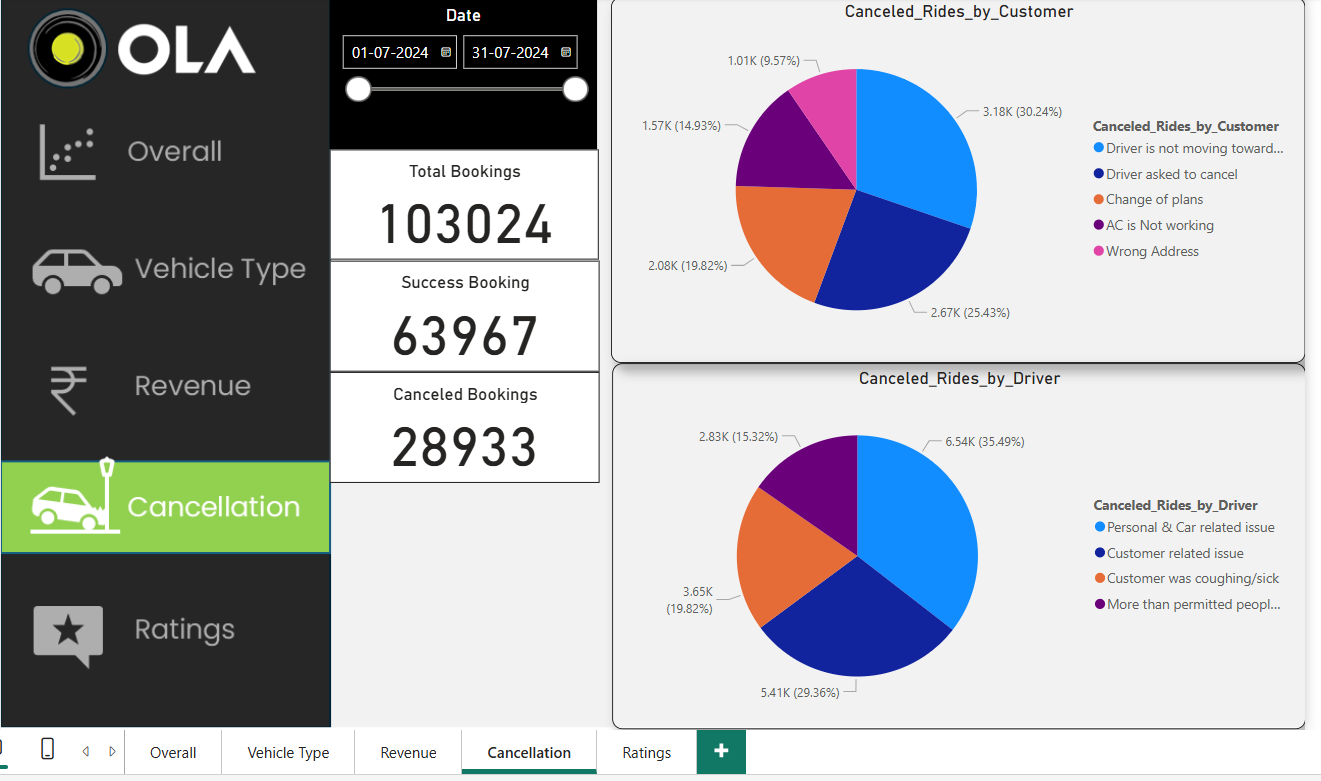

This screenshot's page, from the dashboard's own definition file:
{"tool":"powerbi","page":{"name":"Cancellation","canvas":[1280,720],"ordinal":3},"visuals":[{"type":"actionButton","box":[0,222.3,322.5,91.9],"z":0},{"type":"actionButton","box":[0,108.4,322.5,91.9],"z":1000},{"type":"actionButton","box":[0,337.6,322.5,91.9],"z":2000},{"type":"actionButton","box":[0,455.6,322.5,91.9],"z":3000},{"type":"actionButton","box":[0,575,322.5,91.9],"z":4000},{"type":"pieChart","title":"Canceled_Rides_by_Customer","fields":{"Y":["CountNonNull(July (2).Canceled_Rides_by_Customer)"],"Category":["July (2).Canceled_Rides_by_Customer"]},"box":[598.3,0,682,359.5],"z":5000},{"type":"pieChart","title":"Canceled_Rides_by_Driver","fields":{"Category":["July (2).Canceled_Rides_by_Driver"],"Y":["CountNonNull(July (2).Canceled_Rides_by_Driver)"]},"box":[599.7,359.5,680.6,359.5],"z":6000},{"type":"slicer","title":"Date","fields":{"Values":["July (2).Date"]},"box":[322.7,0,262.6,149.7],"z":7000},{"type":"card","title":"Total Bookings","fields":{"Values":["CountNonNull(July (2).Booking_ID)"]},"box":[322.7,149.7,263.8,108],"z":8000},{"type":"card","title":"Success Booking","fields":{"Values":["CountNonNull(July (2).Booking_ID)"]},"box":[322.5,259.3,264.8,108.4],"z":9000},{"type":"card","title":"Canceled Bookings","fields":{"Values":["CountNonNull(July (2).Booking_ID)"]},"box":[322.5,367.8,264.8,108.4],"z":10000}]}

Visuals, with their boxes in screenshot pixels (x1, y1, x2, y2):
actionButton: [0, 219, 328, 313]
actionButton: [0, 103, 328, 197]
actionButton: [0, 337, 328, 430]
actionButton: [0, 457, 328, 550]
actionButton: [0, 578, 328, 672]
"Canceled_Rides_by_Customer" pieChart: [609, 0, 1303, 359]
"Canceled_Rides_by_Driver" pieChart: [610, 359, 1303, 725]
"Date" slicer: [328, 0, 596, 145]
"Total Bookings" card: [328, 145, 597, 255]
"Success Booking" card: [328, 257, 598, 367]
"Canceled Bookings" card: [328, 367, 598, 478]
